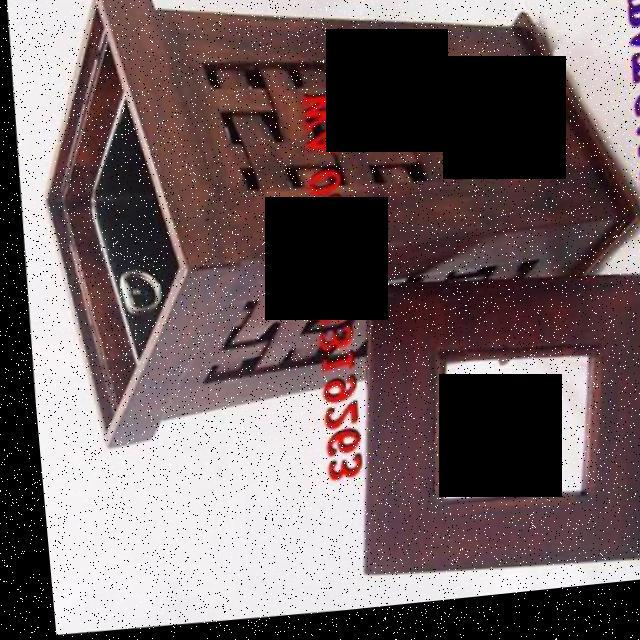bin: (11, 0, 637, 606)
